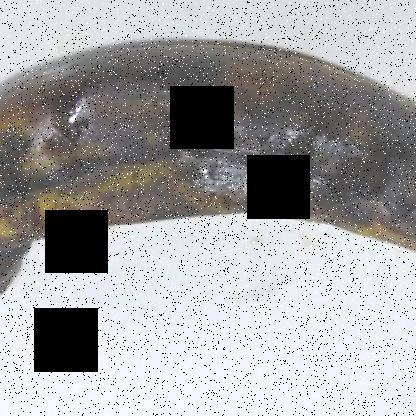rotten: (0, 17, 415, 342)
